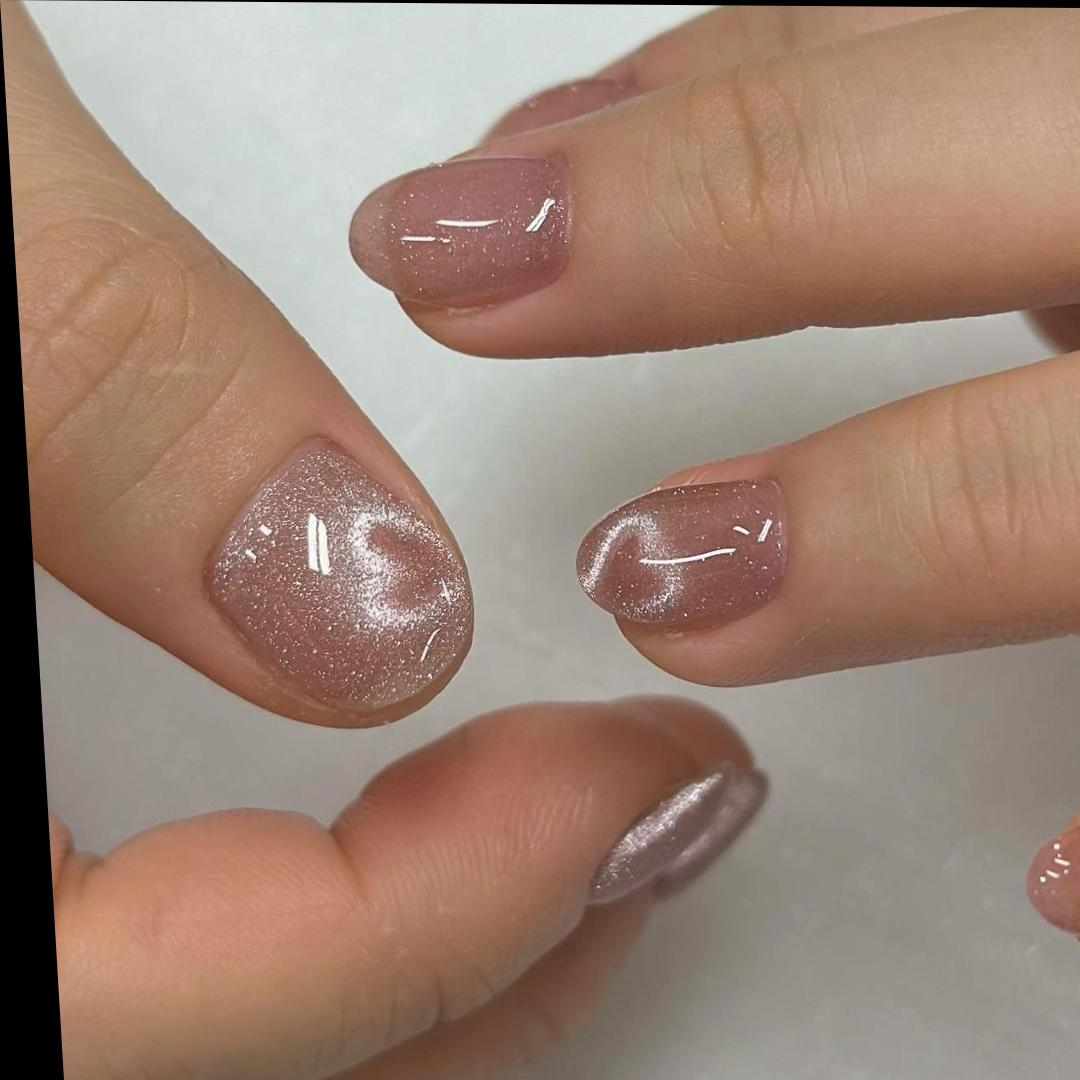nail: (192, 431, 481, 723), (342, 150, 578, 310), (569, 474, 793, 631), (576, 757, 772, 906), (478, 74, 642, 142), (1021, 814, 1080, 943)
